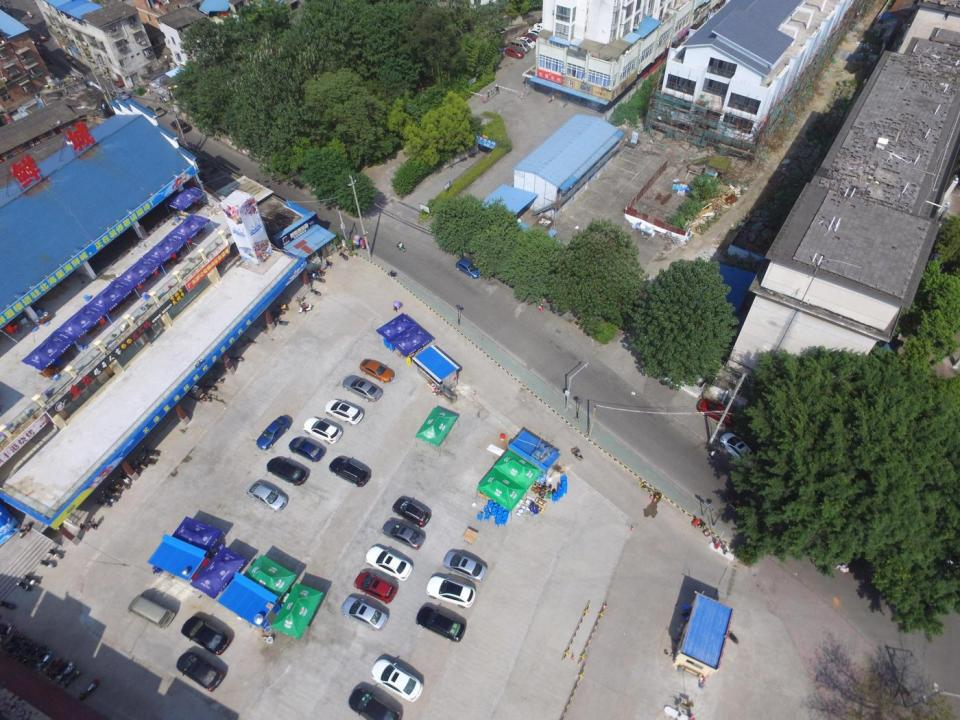car: (370, 658, 422, 700), (176, 651, 226, 693), (181, 616, 231, 656), (416, 606, 466, 642), (348, 688, 403, 720), (365, 545, 413, 580), (426, 576, 476, 609), (341, 596, 389, 629), (441, 549, 487, 582), (354, 570, 398, 604), (246, 480, 288, 512), (382, 519, 426, 549), (392, 496, 432, 528), (330, 457, 372, 487), (255, 415, 290, 450), (266, 457, 308, 486), (696, 399, 736, 427), (324, 397, 365, 424), (342, 375, 383, 401), (719, 431, 754, 461), (303, 417, 343, 443), (289, 437, 327, 463), (359, 358, 395, 382), (455, 258, 481, 280), (515, 36, 536, 50), (170, 119, 190, 133), (504, 47, 525, 59), (112, 88, 130, 100), (528, 27, 541, 37), (522, 32, 536, 41), (534, 22, 542, 29)
van: (129, 595, 175, 630), (510, 39, 530, 53), (146, 103, 164, 116)
